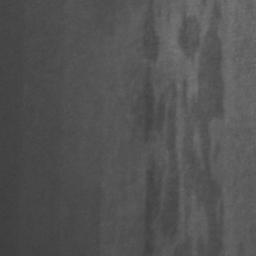Inclusion: (142, 0, 225, 256)
